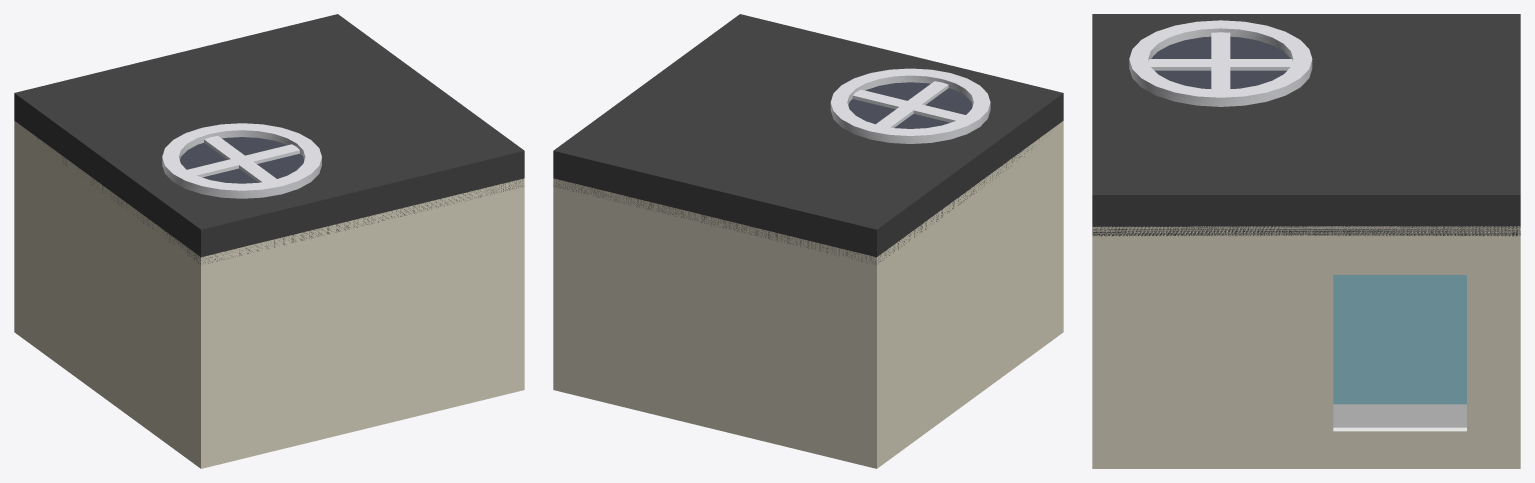
File: supply_depot.obj
The picture shows the model from 3 angles, left to right: view 1: azimuth 30°, elevation 25°; view 2: azimuth 150°, elevation 25°; view 3: azimuth 270°, elevation 25°; orthographic projection. The views are drawn at different scales.
Bounding box in the file's own units: 1.05 × 0.73 × 1.
